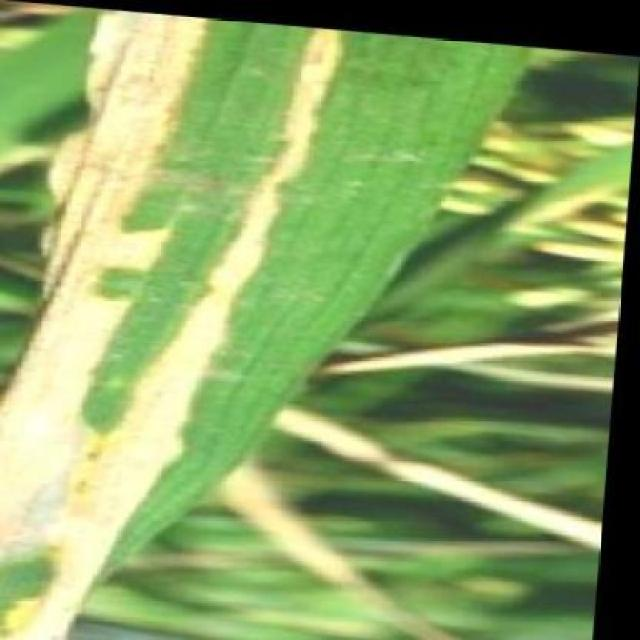Brown_Spot: (26, 5, 354, 549)
